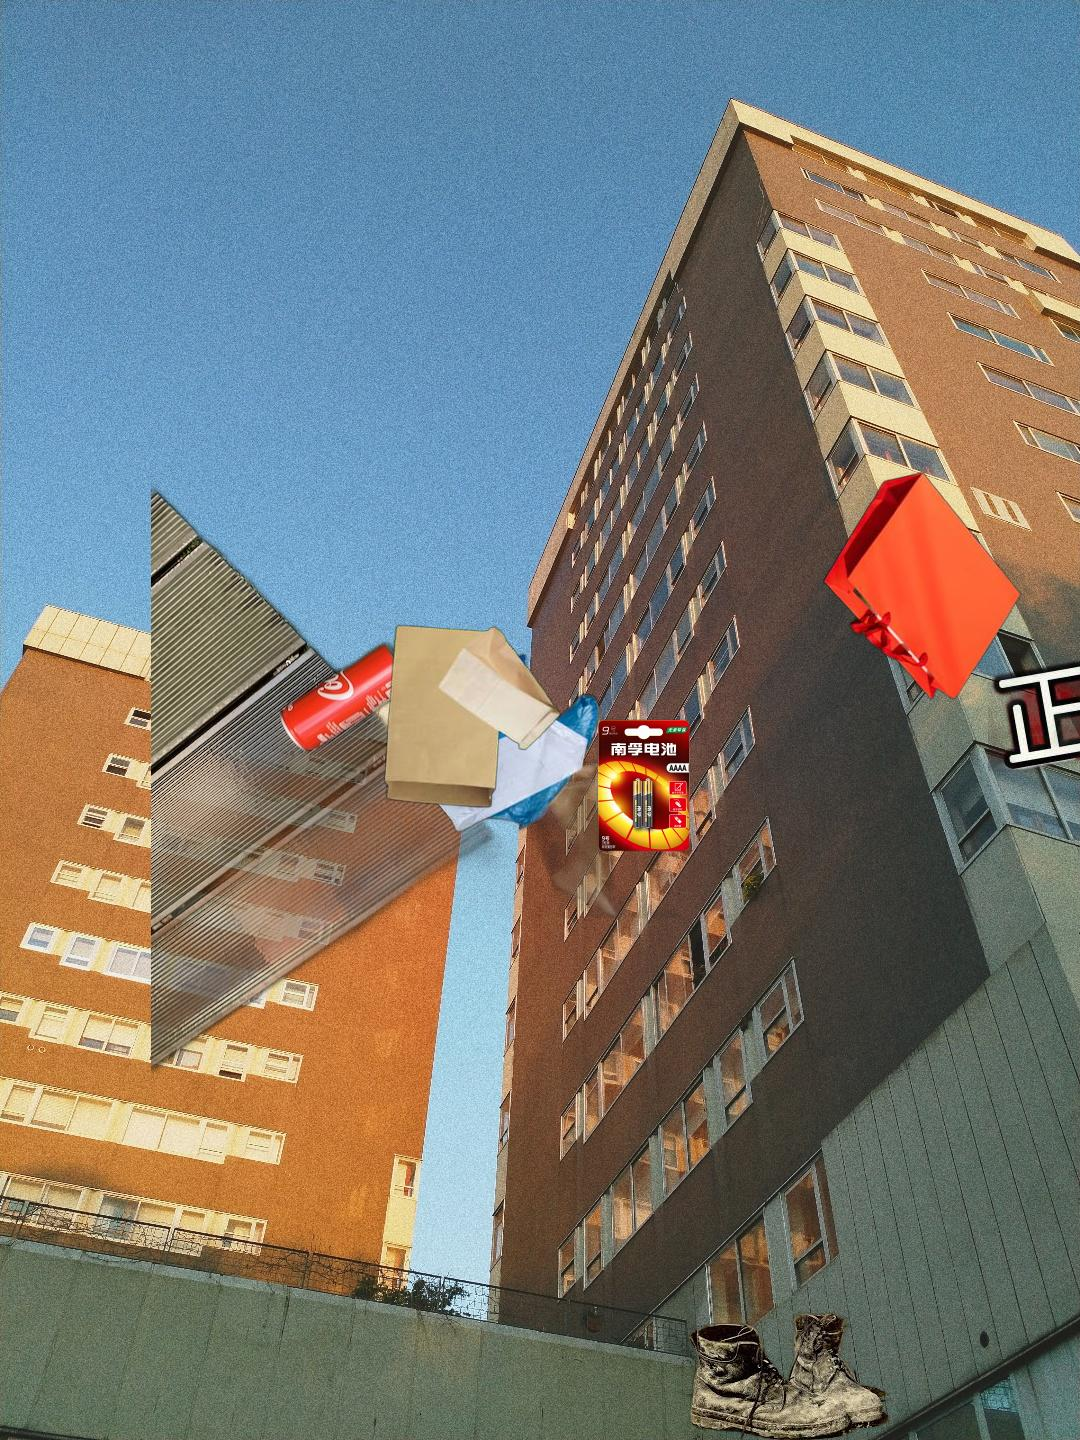battery: (988, 639, 1080, 1240), (594, 717, 693, 854)
metal-cans: (151, 473, 572, 1103)
paper-bag: (821, 469, 1023, 702), (383, 622, 562, 810)
plastic-bag: (424, 651, 691, 918)
shoes: (646, 1310, 894, 1440)
